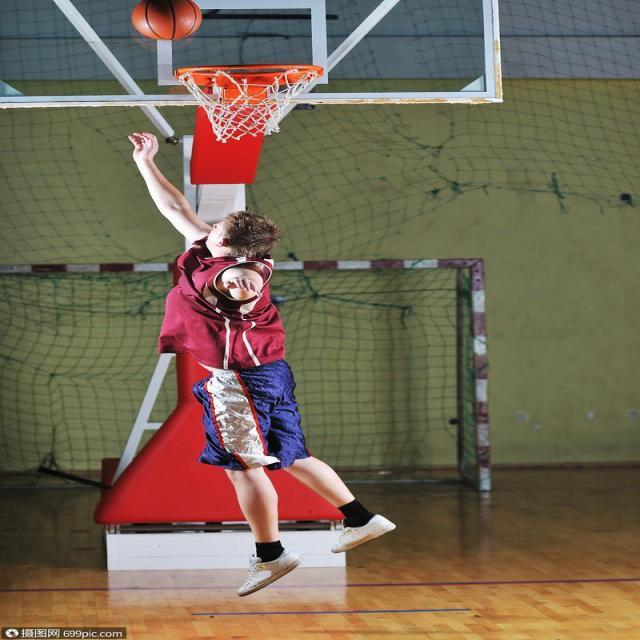rim: (127, 2, 203, 38)
